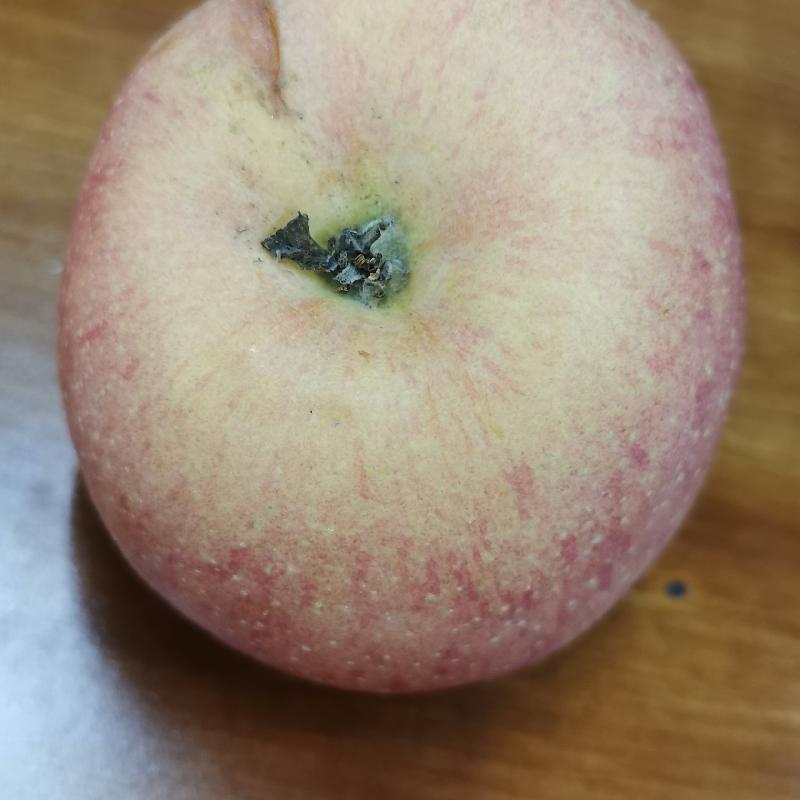apples: (57, 1, 749, 699)
